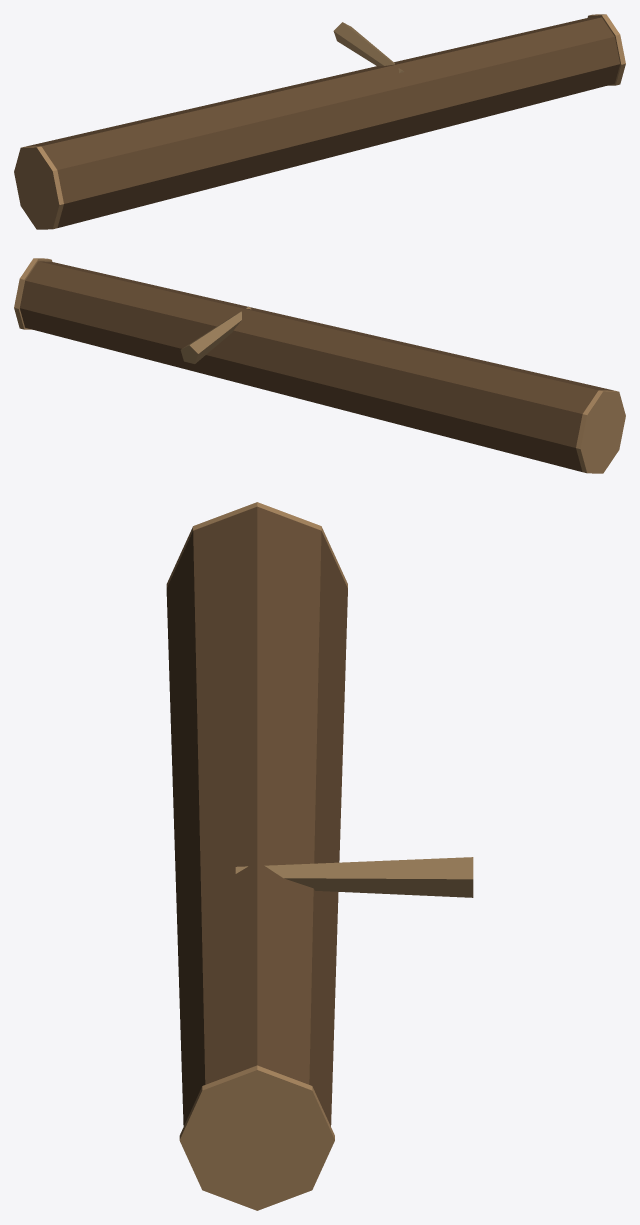
File: tronco_caido.glb
The picture shows the model from 3 angles, top to bottom: view 1: azimuth 30°, elevation 25°; view 2: azimuth 150°, elevation 25°; view 3: azimuth 270°, elevation 25°; orthographic projection. The views are drawn at different scales.
Visible parts, largest first — view 1: tronco_caido; view 2: tronco_caido; view 3: tronco_caido.
Part boxes in pixels (x1=…): tronco_caido: x1=14, y1=14, x2=625, y2=229; tronco_caido: x1=14, y1=258, x2=625, y2=473; tronco_caido: x1=166, y1=502, x2=473, y2=1210.
Size of the model in its own units: 6.09 by 0.84 by 1.42.
